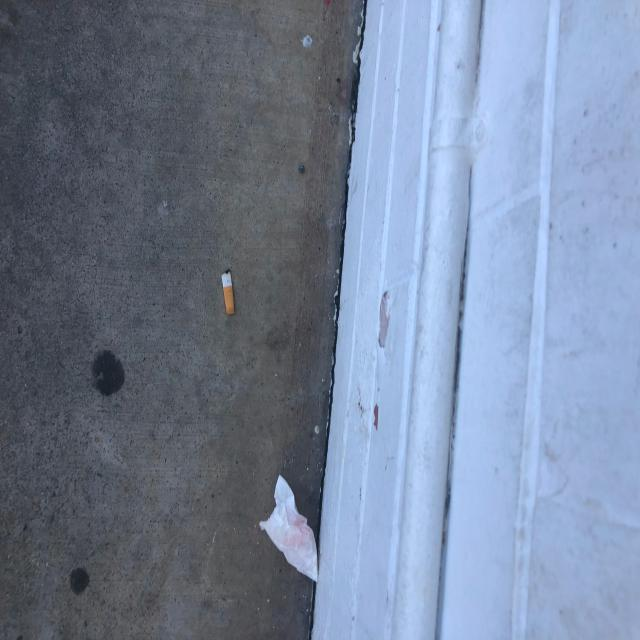Cigarette: (221, 270, 234, 315)
Paper bag: (259, 474, 318, 582)
